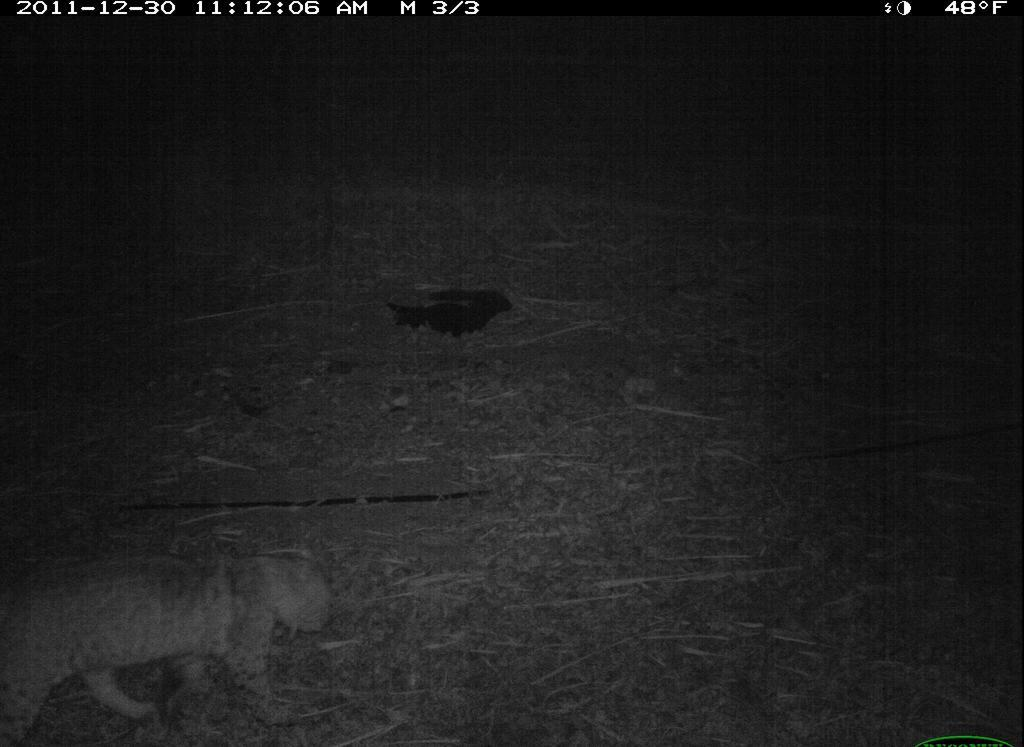bobcat: (1, 528, 342, 742)
